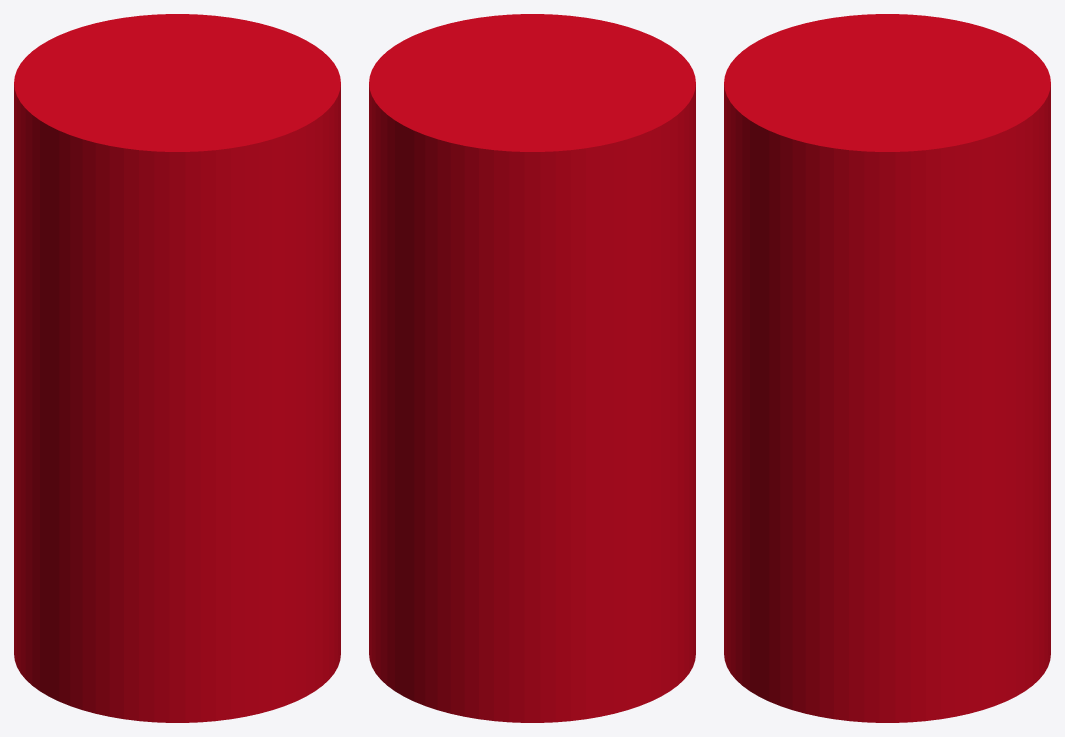
The picture shows the model from 3 angles, left to right: view 1: azimuth 30°, elevation 25°; view 2: azimuth 150°, elevation 25°; view 3: azimuth 270°, elevation 25°; orthographic projection.
Visible parts, largest first — view 1: 円柱; view 2: 円柱; view 3: 円柱.
Part boxes in pixels (bbox=[...]): 円柱: bbox=[14, 14, 340, 722]; 円柱: bbox=[369, 14, 695, 722]; 円柱: bbox=[724, 14, 1050, 722].
Size of the model in its own units: 0.2091 by 0.4034 by 0.2094.
